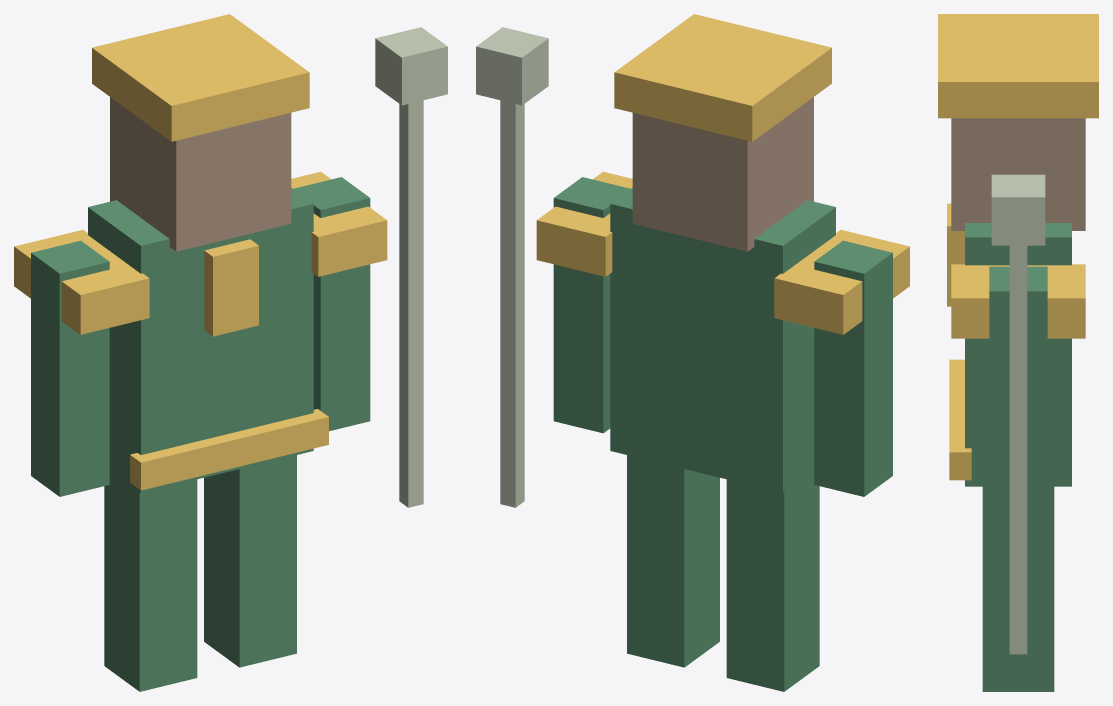
The model's file is 10_brant_stormhush_courier_near.glb.
3 views of the same model, side by side, from view 1: azimuth 30°, elevation 25°; view 2: azimuth 150°, elevation 25°; view 3: azimuth 270°, elevation 25° (orthographic).
Parts seen in each view (by area): view 1: Brant Stormhush, Courier near; view 2: Brant Stormhush, Courier near; view 3: Brant Stormhush, Courier near.
Boxes of the visible parts, <box> form: Brant Stormhush, Courier near: <box>14,14,447,691</box>; Brant Stormhush, Courier near: <box>476,14,909,691</box>; Brant Stormhush, Courier near: <box>938,14,1098,691</box>.
Size of the model in its own units: 1.02 by 1.5 by 0.3616.
